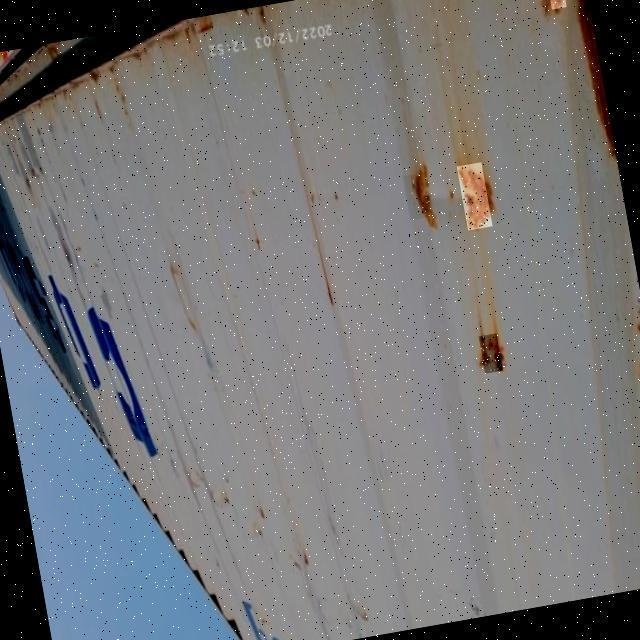rust: (580, 1, 615, 147), (458, 163, 494, 231), (404, 173, 435, 221), (480, 334, 504, 375), (544, 1, 567, 25)
